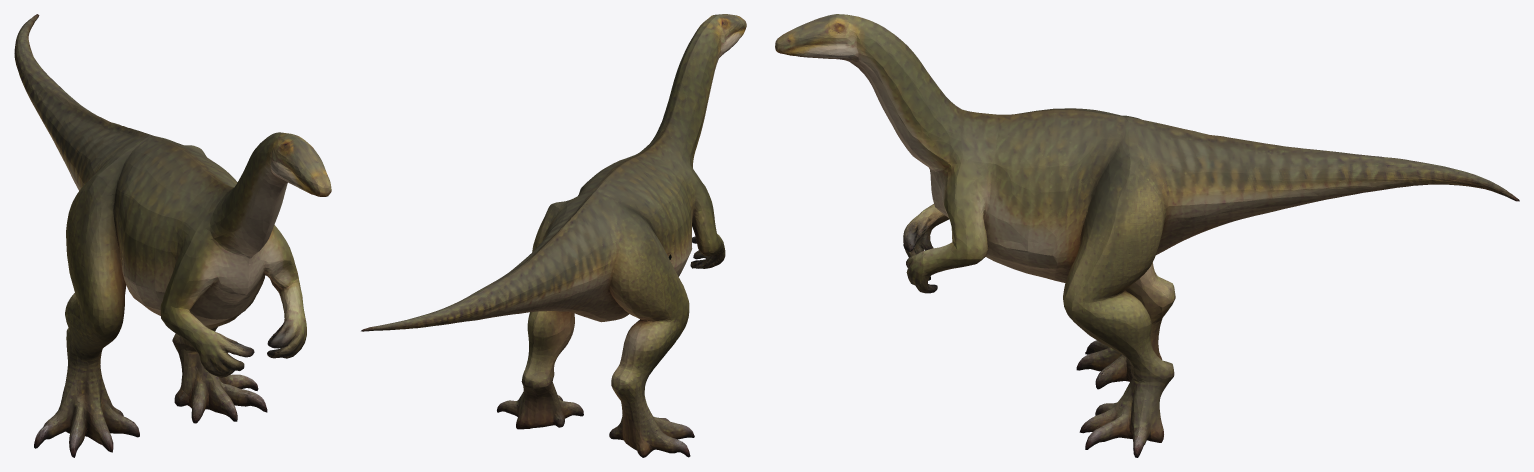
The picture shows the model from 3 angles, left to right: view 1: azimuth 30°, elevation 25°; view 2: azimuth 150°, elevation 25°; view 3: azimuth 270°, elevation 25°; orthographic projection. The views are drawn at different scales.
Visible parts, largest first — view 1: world; view 2: world; view 3: world.
Part boxes in pixels (bbox=[...]): world: bbox=[14, 14, 331, 457]; world: bbox=[361, 14, 746, 457]; world: bbox=[775, 14, 1519, 457].
Size of the model in its own units: 0.351 by 0.5797 by 0.9984.
Materials: 1 (1 with a texture image).
